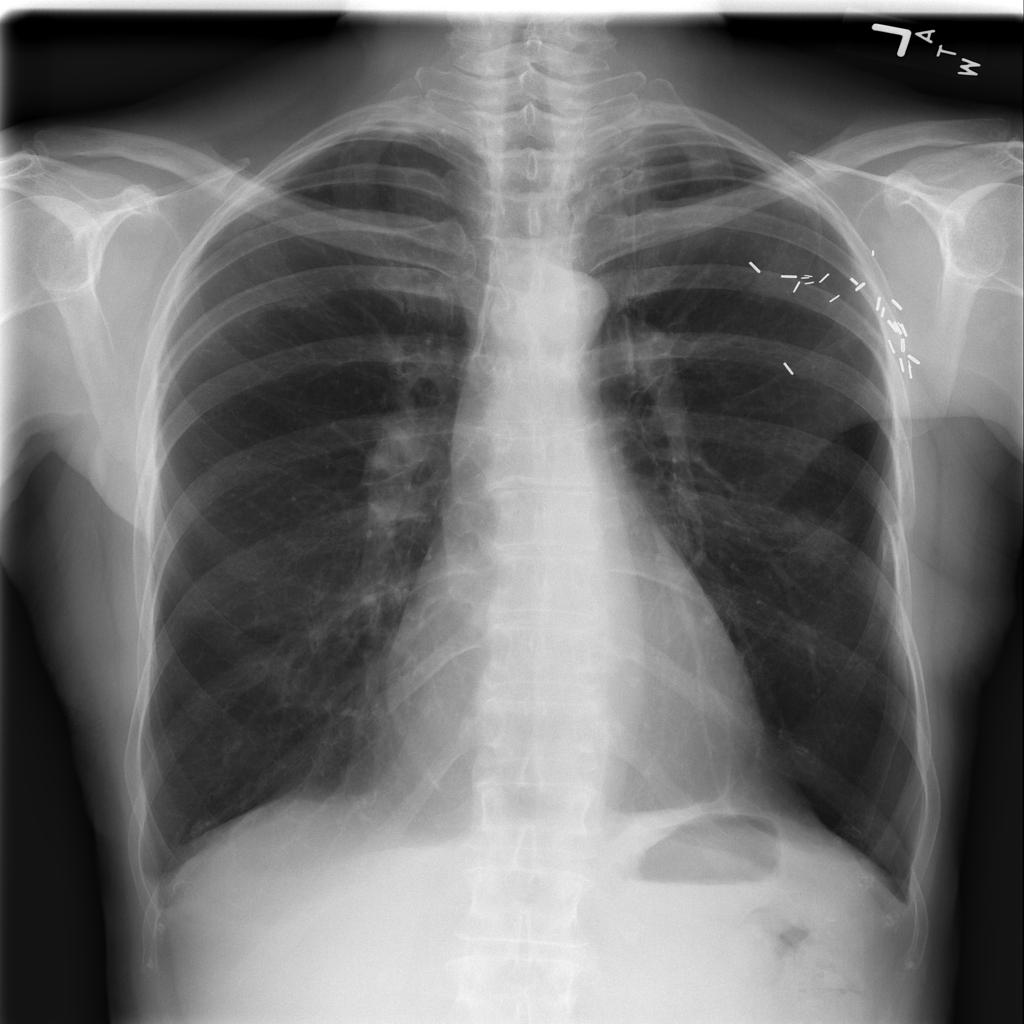nodule: (753, 488, 867, 589)
